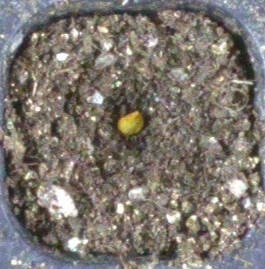pepper seed: (43, 42, 188, 178)
